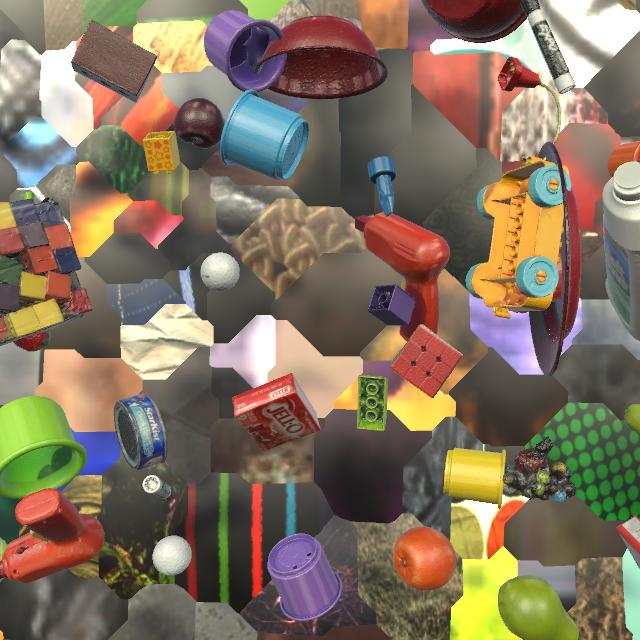ycb_007_tuna_fish_can: (114, 393, 168, 470)
ycb_009_gelatin_box: (232, 373, 321, 451), (616, 515, 640, 569)
ycb_011_banana: (24, 192, 34, 201)
ycb_012_strawberry: (13, 330, 51, 352)
ycb_016_pear: (498, 575, 579, 640), (624, 404, 640, 435)
ycb_017_orange: (393, 526, 456, 591)
ycb_018_plum: (174, 98, 225, 148)
